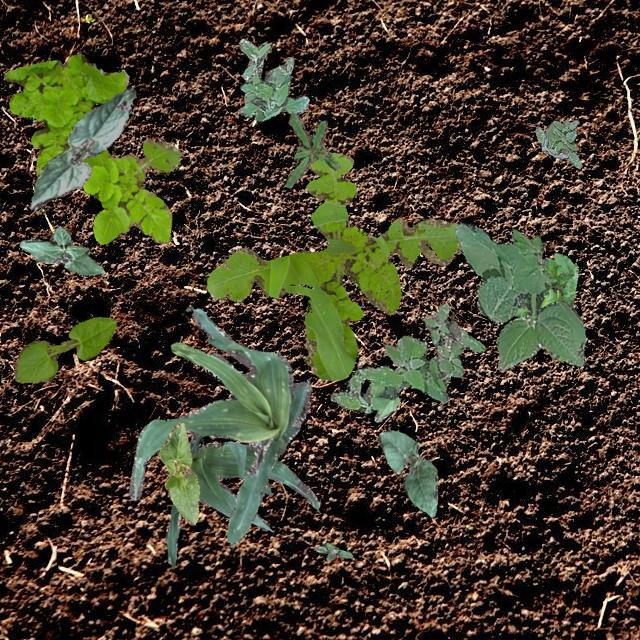crop: (128, 306, 310, 544), (165, 433, 318, 568), (29, 86, 134, 210), (14, 316, 116, 382), (376, 429, 436, 516), (18, 224, 104, 274), (156, 422, 198, 524), (374, 366, 408, 420)
weed: (206, 152, 462, 380), (2, 52, 180, 242), (454, 222, 584, 370), (329, 303, 484, 412), (238, 38, 308, 120), (512, 252, 578, 316), (286, 110, 338, 187), (534, 119, 580, 168), (314, 542, 352, 560)
